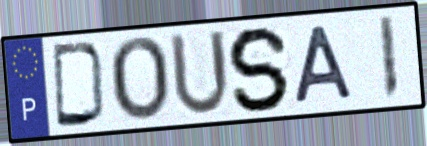A: (292, 22, 357, 107)
D: (49, 40, 109, 130)
I: (376, 13, 401, 103)
O: (106, 34, 171, 124)
S: (225, 24, 293, 114)
U: (167, 28, 233, 120)
